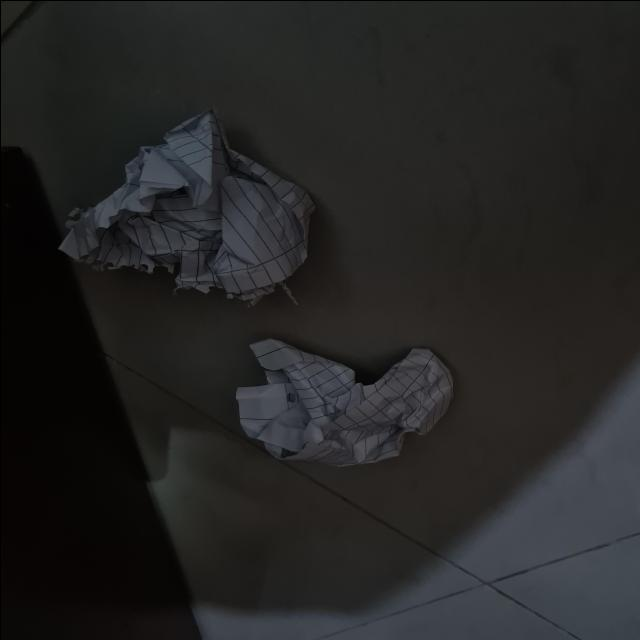kertas: (62, 120, 320, 316), (241, 342, 458, 466)
